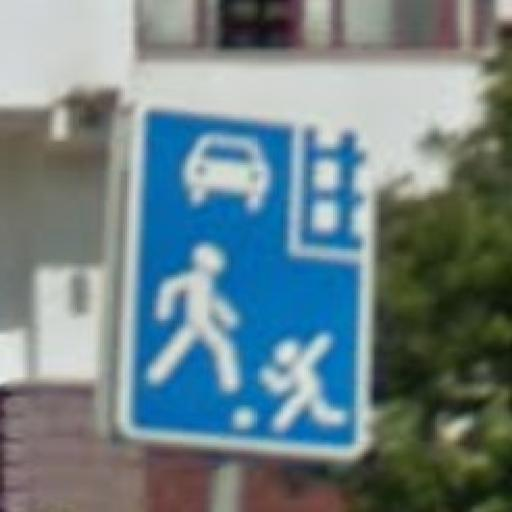traffic_sign: (118, 103, 384, 466)
